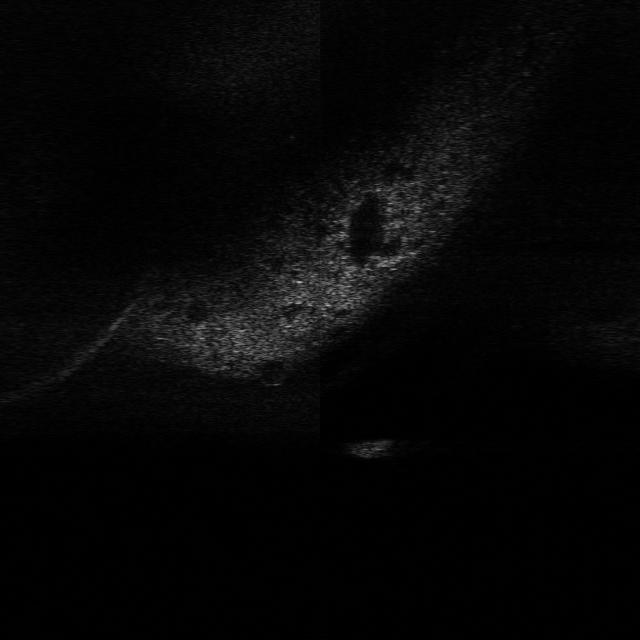cube: (348, 429, 403, 464)
